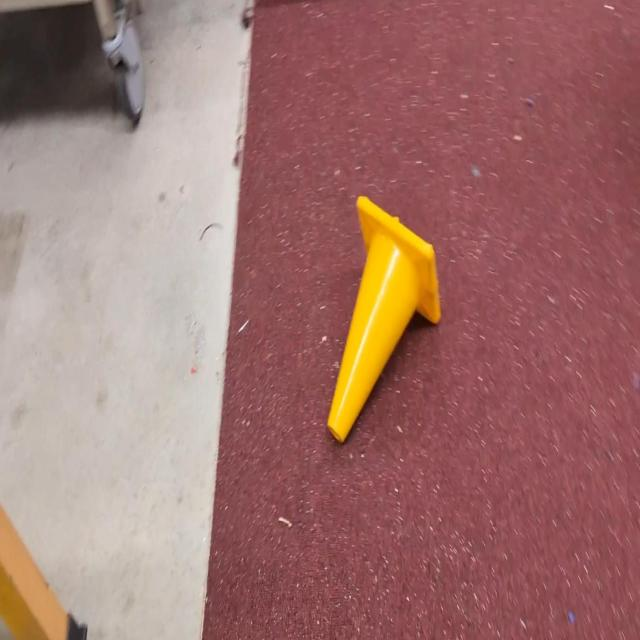frc_cone: (328, 193, 442, 440)
